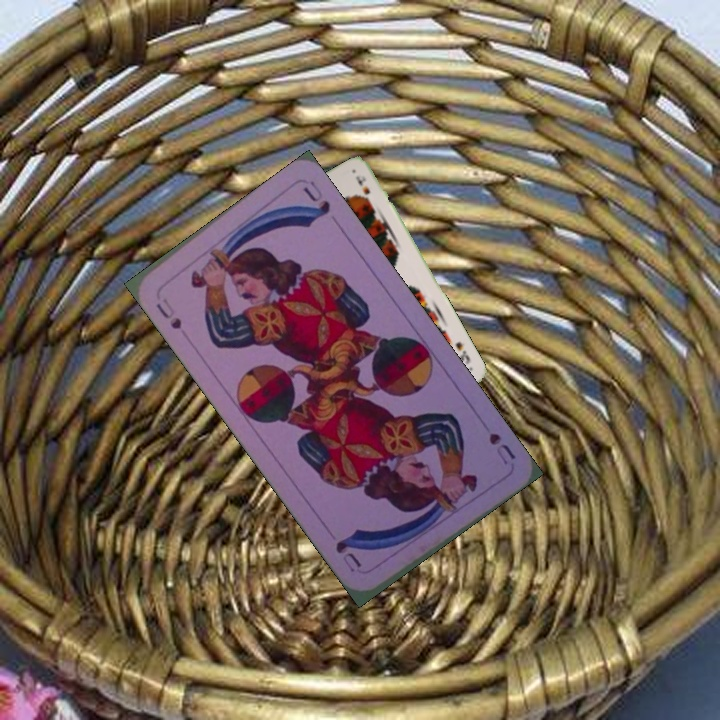S9: (451, 338, 473, 367)
SU: (484, 428, 519, 467), (151, 294, 185, 332)
